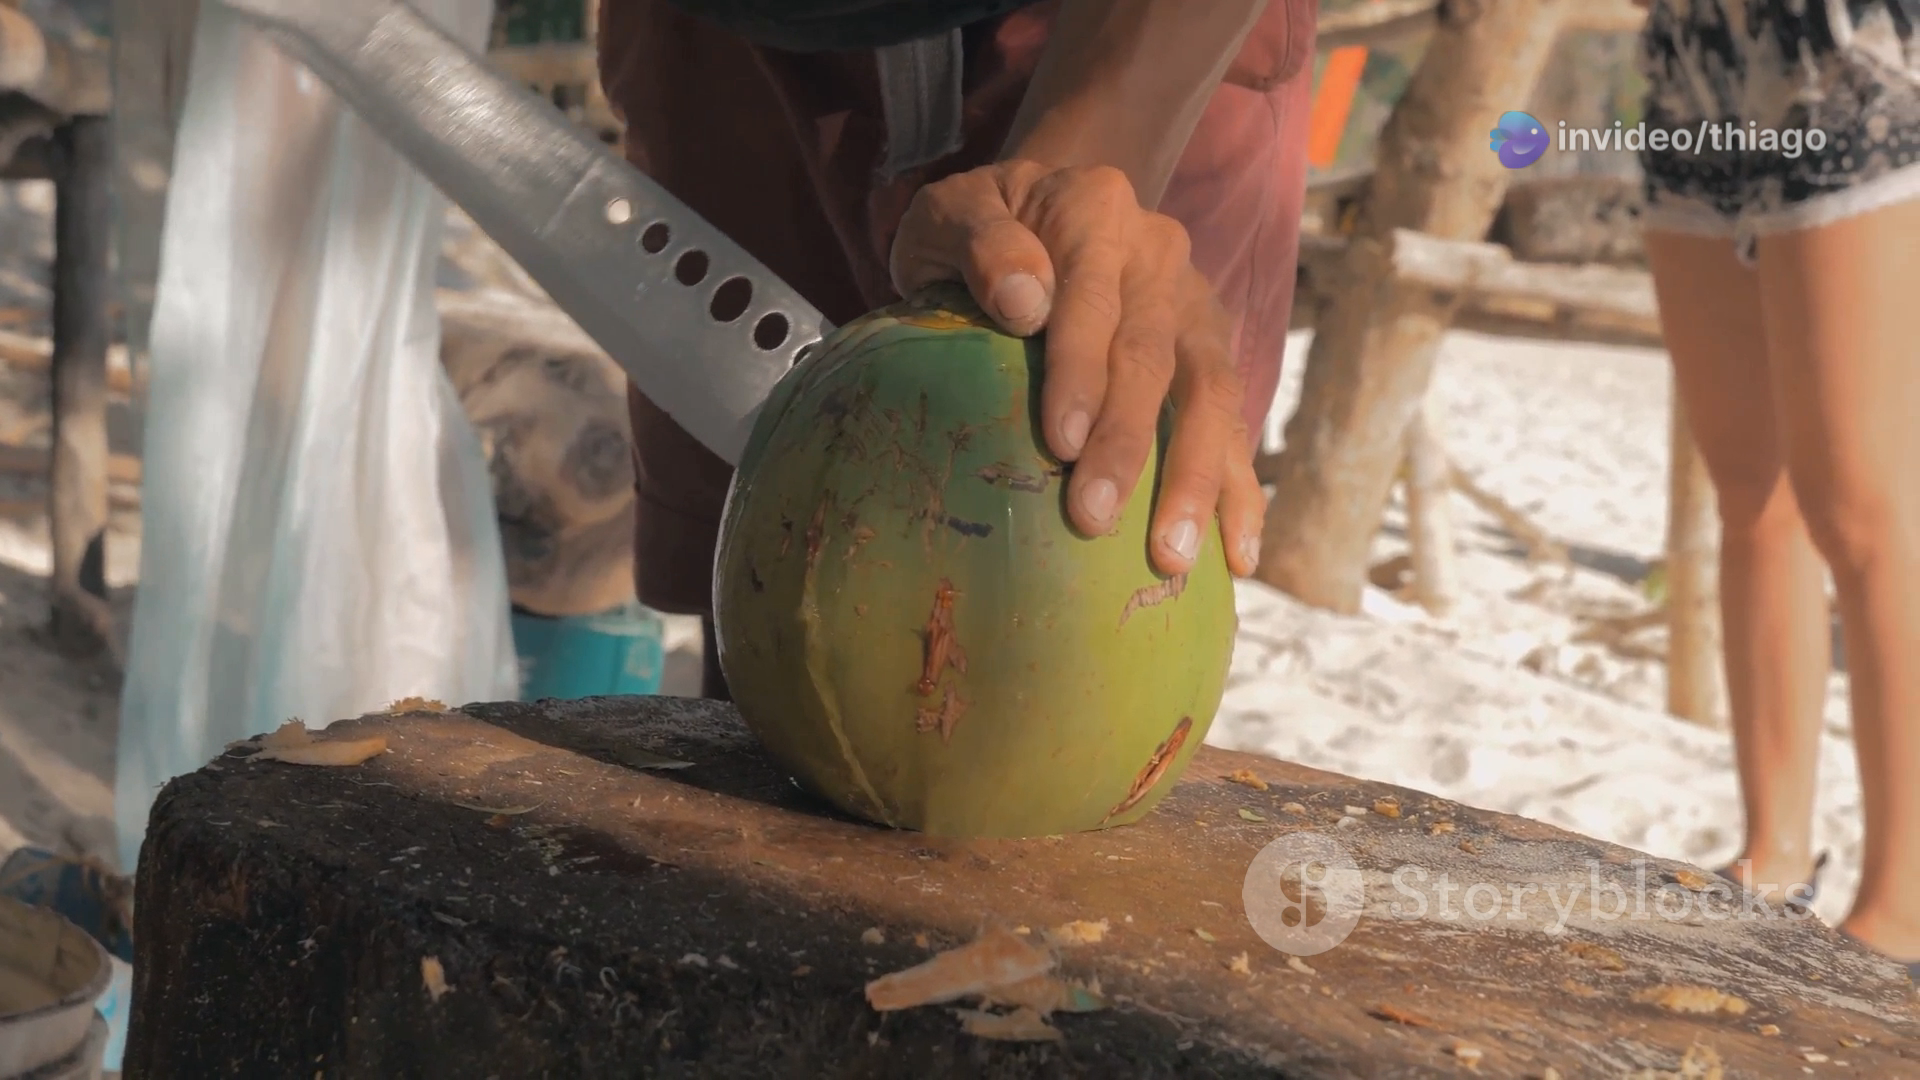cortante: (219, 0, 844, 469)
